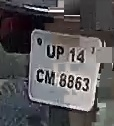1: (69, 45, 76, 64)
3: (83, 76, 90, 93)
4: (76, 49, 86, 67)
6: (75, 75, 82, 92)
8: (59, 71, 67, 89), (67, 73, 75, 90)
C: (35, 68, 44, 83)
M: (45, 69, 55, 87)
P: (56, 43, 63, 63)
U: (45, 41, 55, 60)
